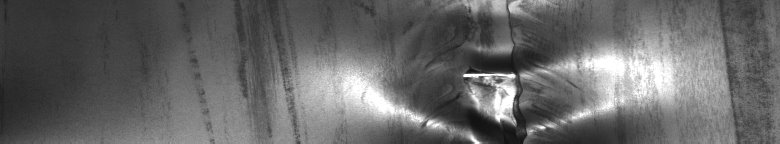ke: (392, 4, 600, 136)
